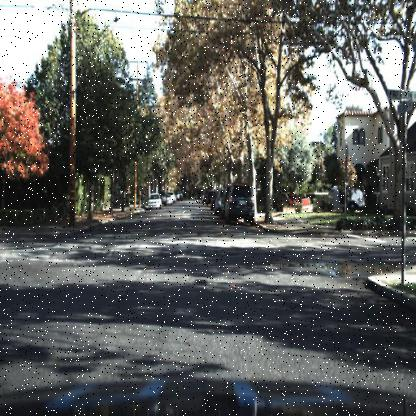car: (324, 179, 368, 216), (224, 178, 254, 227), (145, 191, 164, 211), (146, 192, 162, 210)
